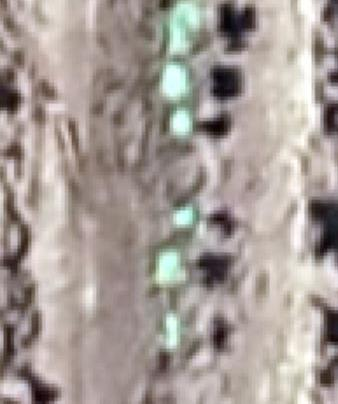cotton: (171, 9, 199, 44), (161, 64, 189, 96), (156, 251, 182, 285), (160, 309, 178, 348), (172, 204, 194, 225), (173, 111, 193, 134)
